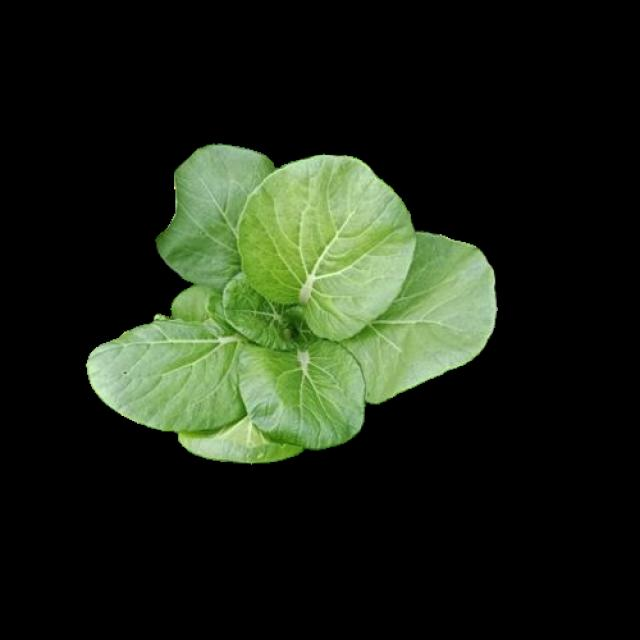healthy: (90, 142, 496, 456)
not-mature: (92, 144, 498, 458)
